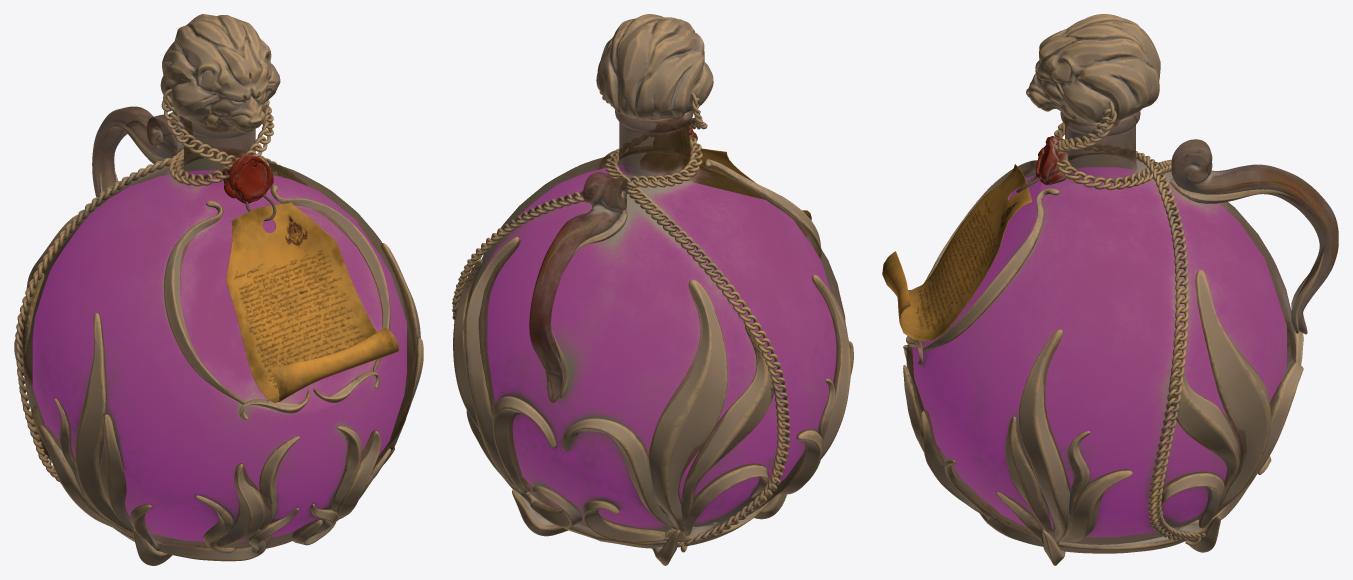
File: magical_potion_mk2.glb
3 renders of one model, left to right at view 1: azimuth 30°, elevation 25°; view 2: azimuth 150°, elevation 25°; view 3: azimuth 270°, elevation 25°, orthographic. The views are drawn at different scales.
Visible parts, largest first — view 1: g (×8); view 2: g (×9); view 3: g (×9).
Boxes of the visible parts, box(x1,y1,x2,y2) form: g (×8): box(14, 14, 423, 565); g (×9): box(452, 14, 853, 565); g (×9): box(882, 14, 1338, 565).
Bounding box in the file's own units: 1.41 × 1.99 × 1.64.
1 material, 1 textured.
